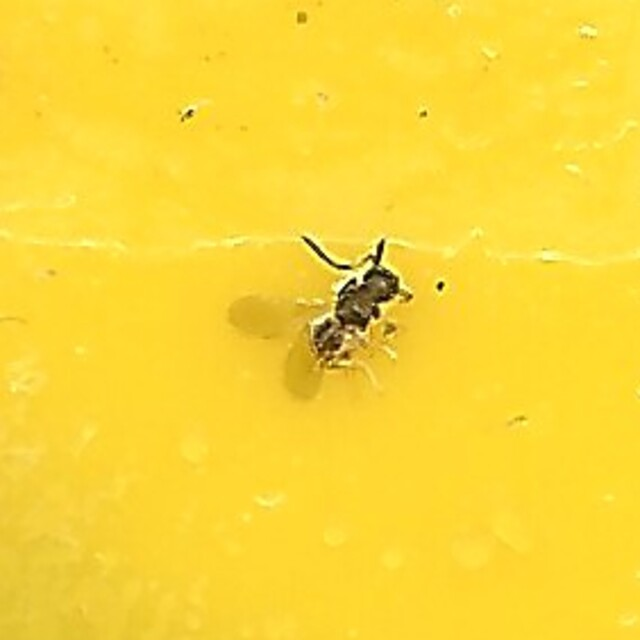Hymenoptera: (227, 239, 413, 401)
